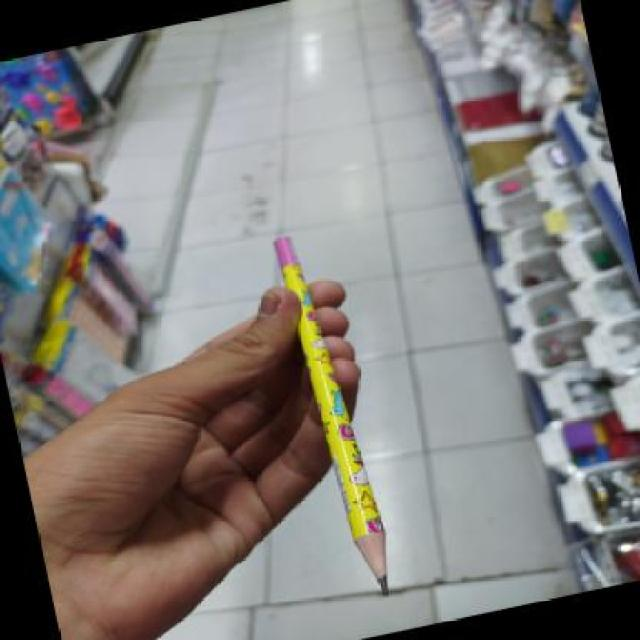pencil: (274, 219, 404, 599)
